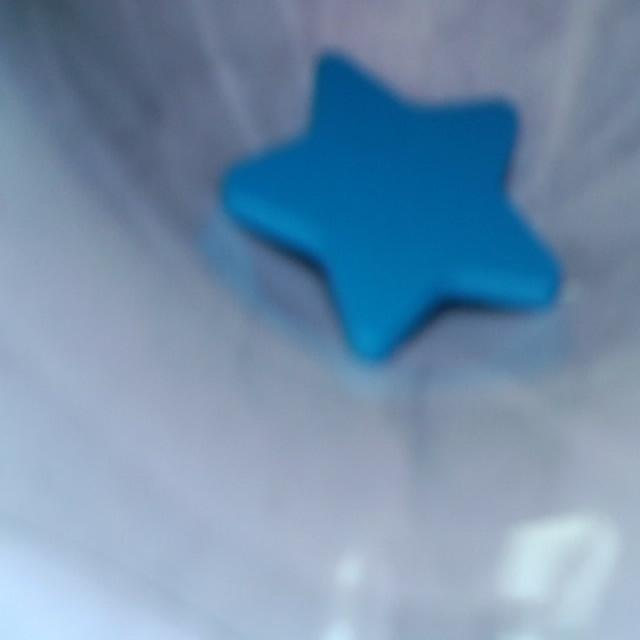star: (223, 56, 560, 359)
